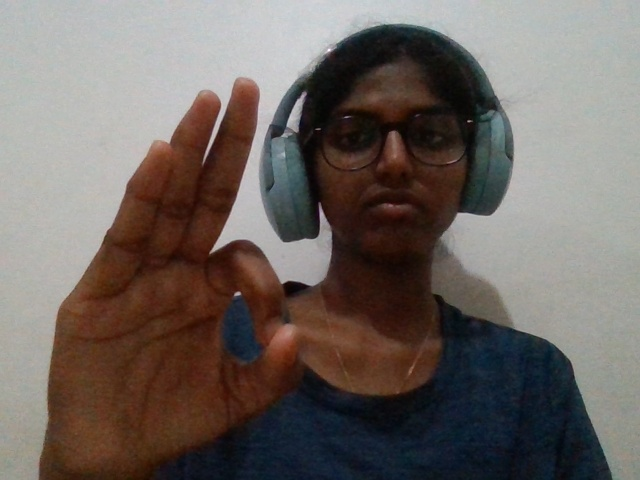F: (22, 48, 326, 480)
